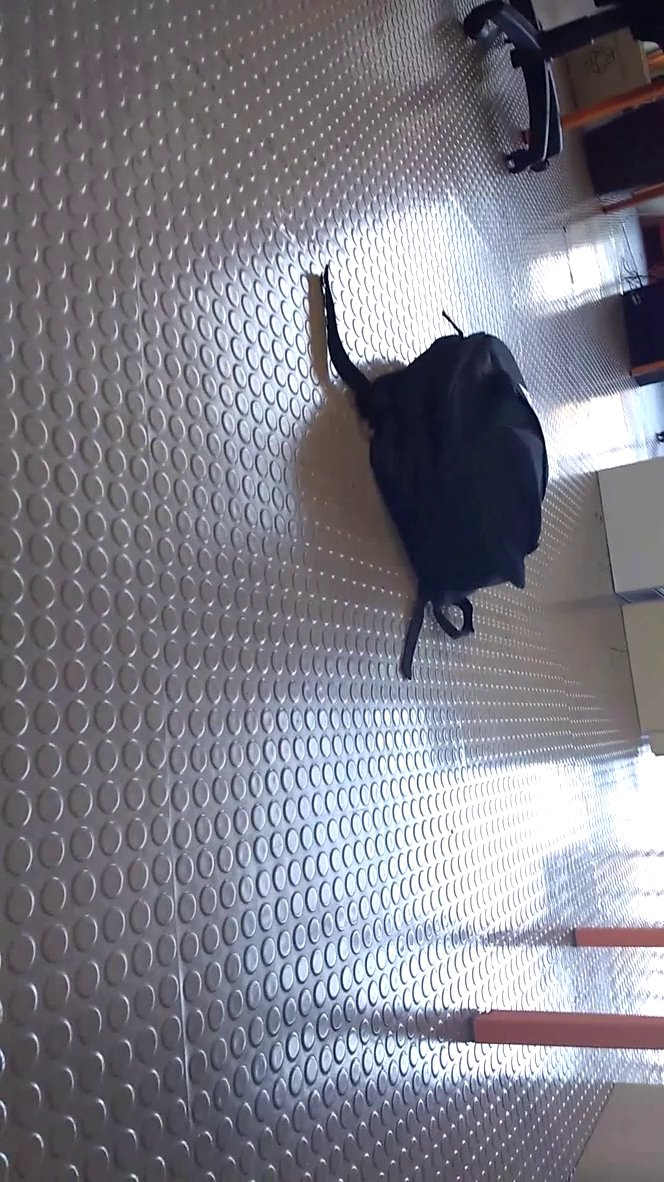bag: (302, 253, 560, 685)
